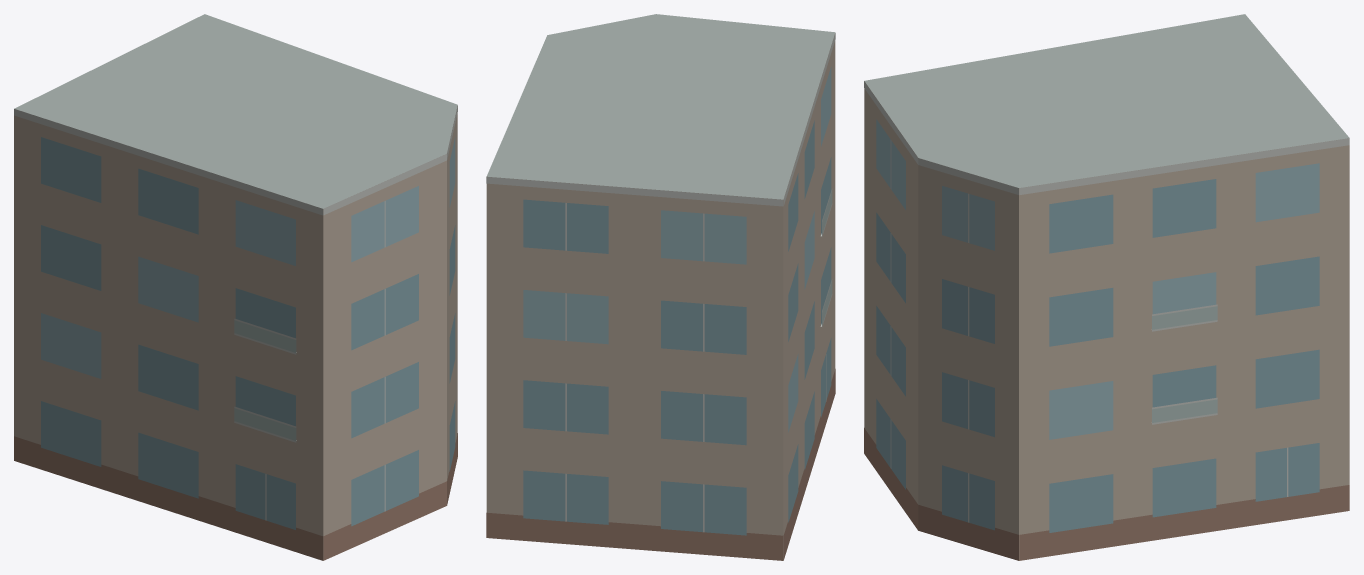
File: survey-upis-33023218.glb
3 views of the same model, side by side, from view 1: azimuth 30°, elevation 25°; view 2: azimuth 150°, elevation 25°; view 3: azimuth 270°, elevation 25° (orthographic). The views are drawn at different scales.
Visible parts, largest first — view 1: survey-upis-33023218.tmp; view 2: survey-upis-33023218.tmp; view 3: survey-upis-33023218.tmp.
Part boxes in pixels (x1,y1,x2,y2): survey-upis-33023218.tmp: (14,14,457,560); survey-upis-33023218.tmp: (486,14,835,560); survey-upis-33023218.tmp: (864,14,1349,560).
Size of the model in its own units: 12.83 by 12.8 by 15.12.
